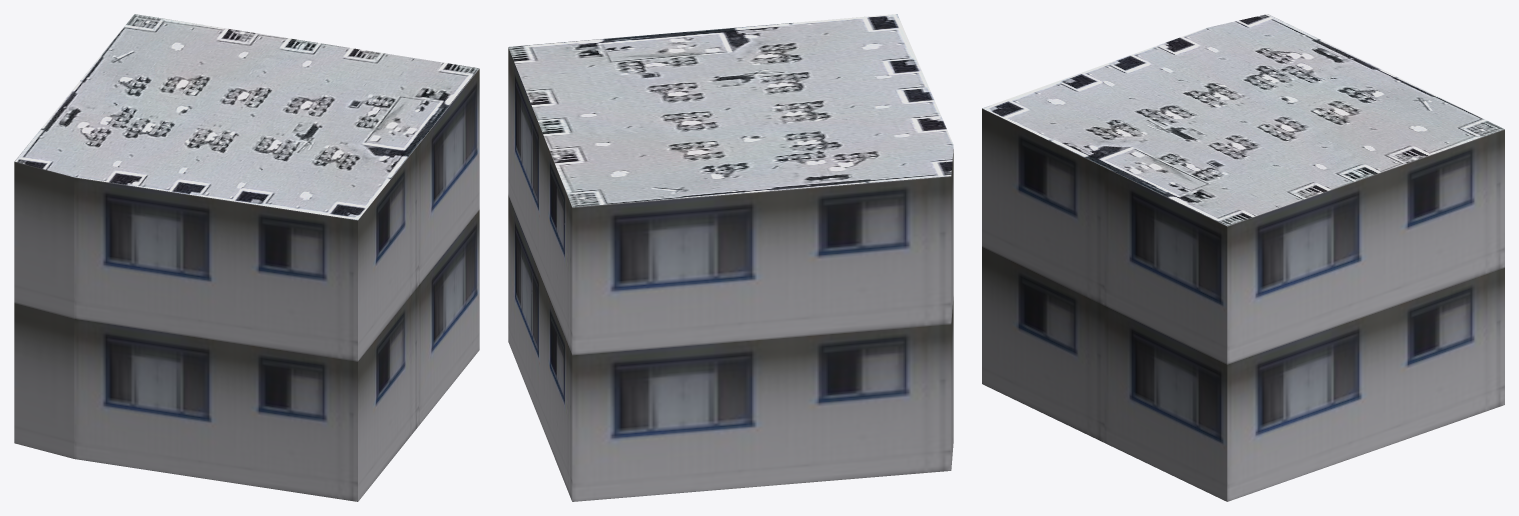
File: ResTex__5158.fbx
3 views of the same model, side by side, from view 1: azimuth 30°, elevation 25°; view 2: azimuth 150°, elevation 25°; view 3: azimuth 270°, elevation 25° (orthographic). The views are drawn at different scales.
Visible parts, largest first — view 1: CityEngineMaterial_9_m, CityEngineMaterial_4_m; view 2: CityEngineMaterial_9_m, CityEngineMaterial_4_m; view 3: CityEngineMaterial_9_m, CityEngineMaterial_4_m.
Part boxes in pixels (x1,y1,x2,y2): CityEngineMaterial_9_m: (14, 69, 479, 501); CityEngineMaterial_4_m: (14, 14, 479, 220); CityEngineMaterial_9_m: (508, 48, 953, 501); CityEngineMaterial_4_m: (508, 14, 953, 207); CityEngineMaterial_9_m: (982, 108, 1504, 501); CityEngineMaterial_4_m: (982, 14, 1504, 226).
Size of the model in its own units: 9.91 by 6 by 10.32.
Materials: 2 (2 with a texture image).
